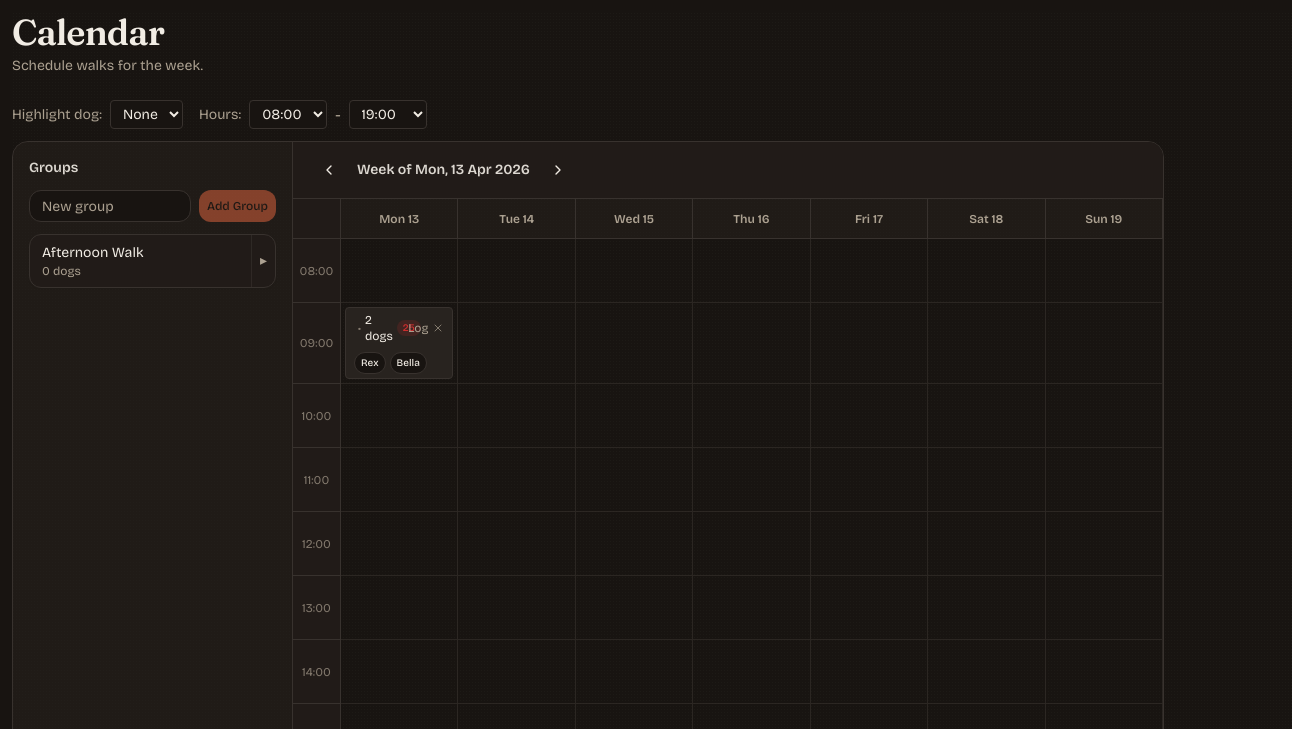
Test: CalendarScheduler › unschedule via x button removes group from slot and returns to sidebar
The width and height of the screenshot is (1292, 729).
Click the button named "Remove Morning Walk". click: [438, 328]
box: [432,322,444,334]
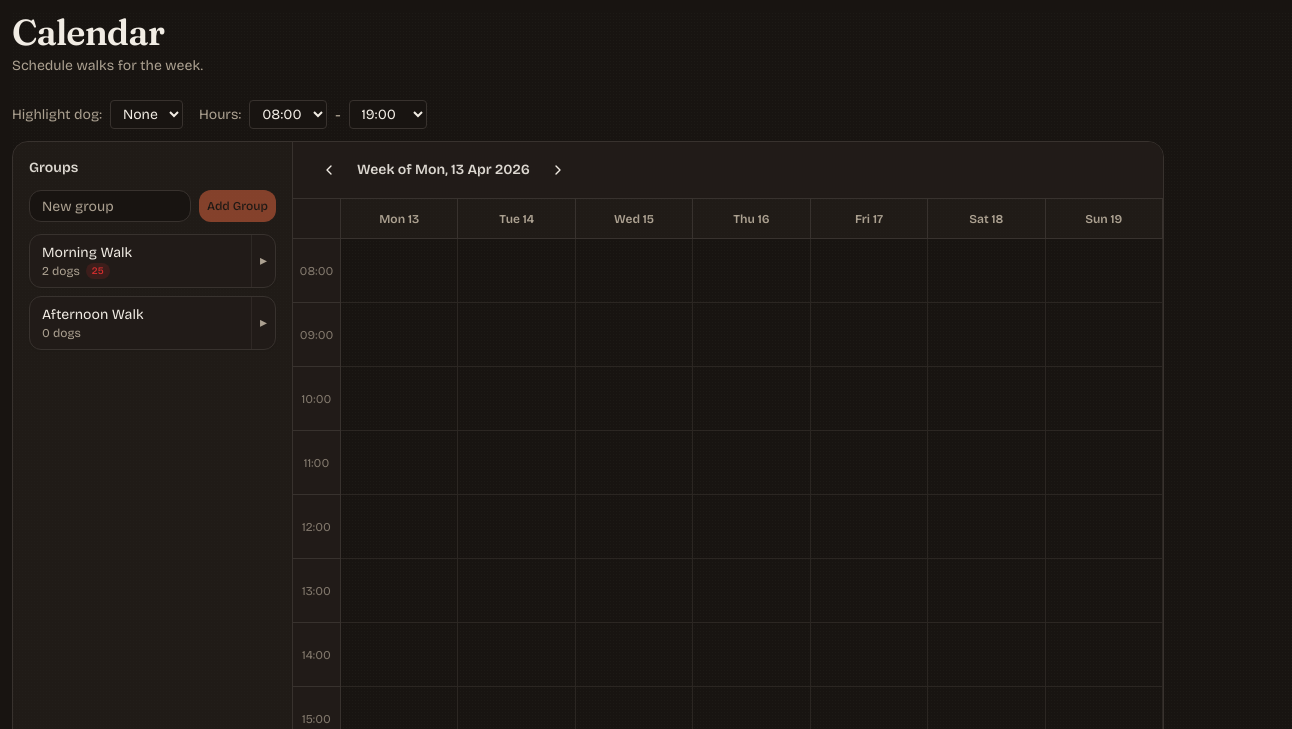
Expected: the text "Morning Walk" is shown, [42,244,132,261]
